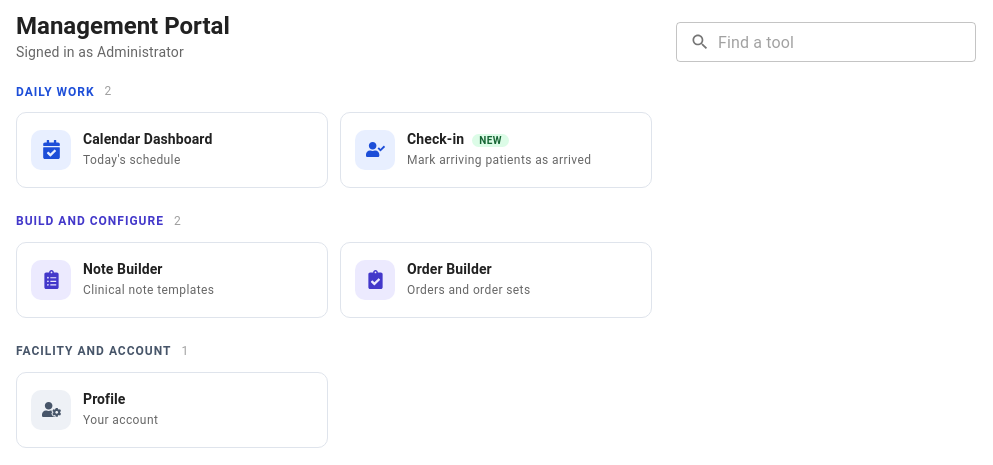
Test: AdminContainer › typing filters the tools and says how many match
Type "builder" into the field labelled "Find a tool".
click(847, 42); type("builder")  # box [718,22,976,62]
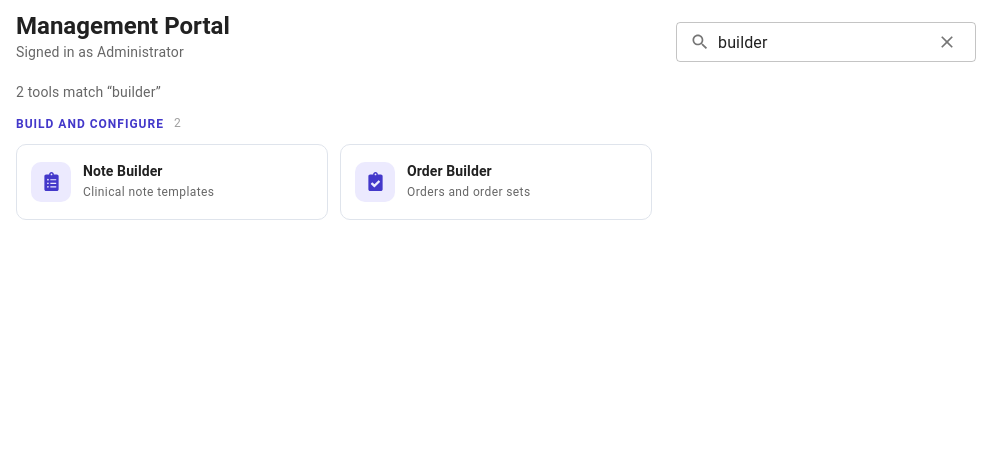
Now the text "2 tools match “builder”" is shown, box [16,84,161,100]
Now the button "Profile" is gone
Now the text "Daily work" is gone
